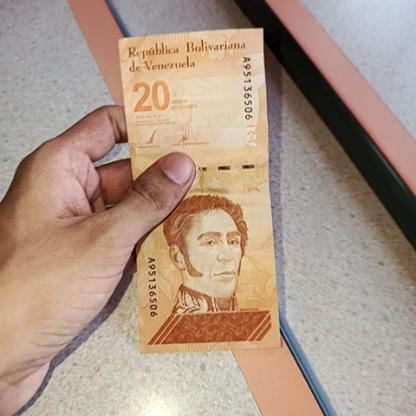twenty-front-vef: (118, 27, 279, 356)
